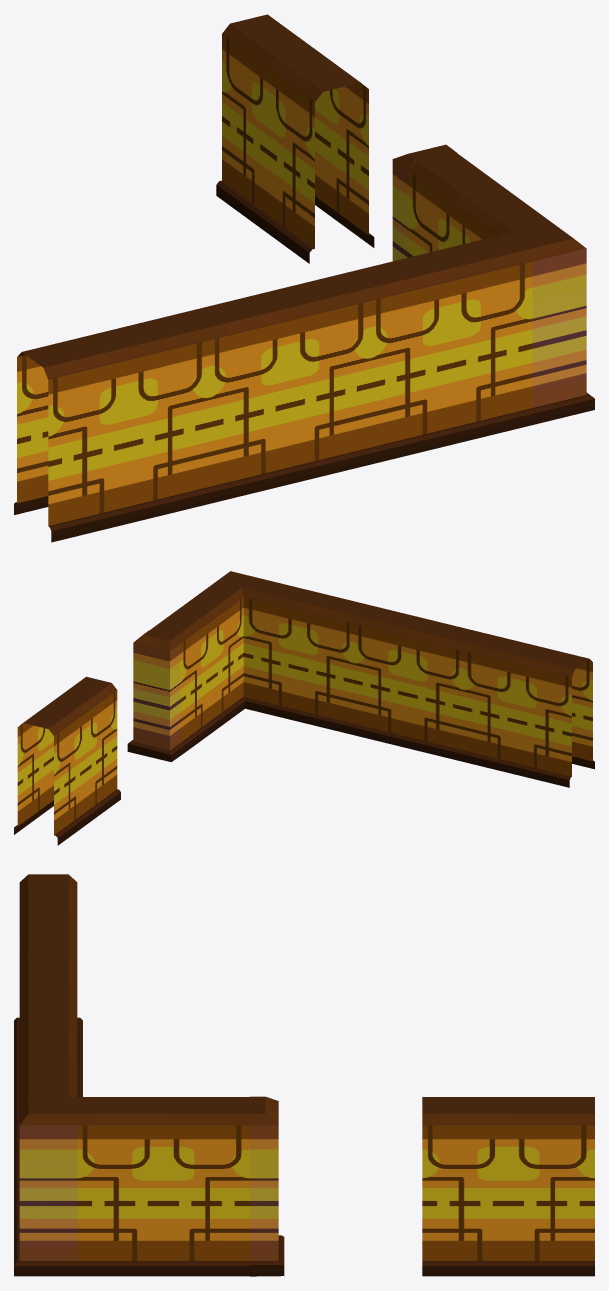
Rendered from s1_LivingWalls_v3.fbx.
3 views of the same model, one above another, from view 1: azimuth 30°, elevation 25°; view 2: azimuth 150°, elevation 25°; view 3: azimuth 270°, elevation 25° (orthographic). The views are drawn at different scales.
Visible parts, largest first — view 1: s1_LivingWalls_v3; view 2: s1_LivingWalls_v3; view 3: s1_LivingWalls_v3.
Part boxes in pixels (x1,y1,x2,y2): s1_LivingWalls_v3: [14, 14, 594, 542]; s1_LivingWalls_v3: [14, 571, 594, 845]; s1_LivingWalls_v3: [14, 874, 594, 1276].
Size of the model in its own units: 1010 by 300 by 1010.
